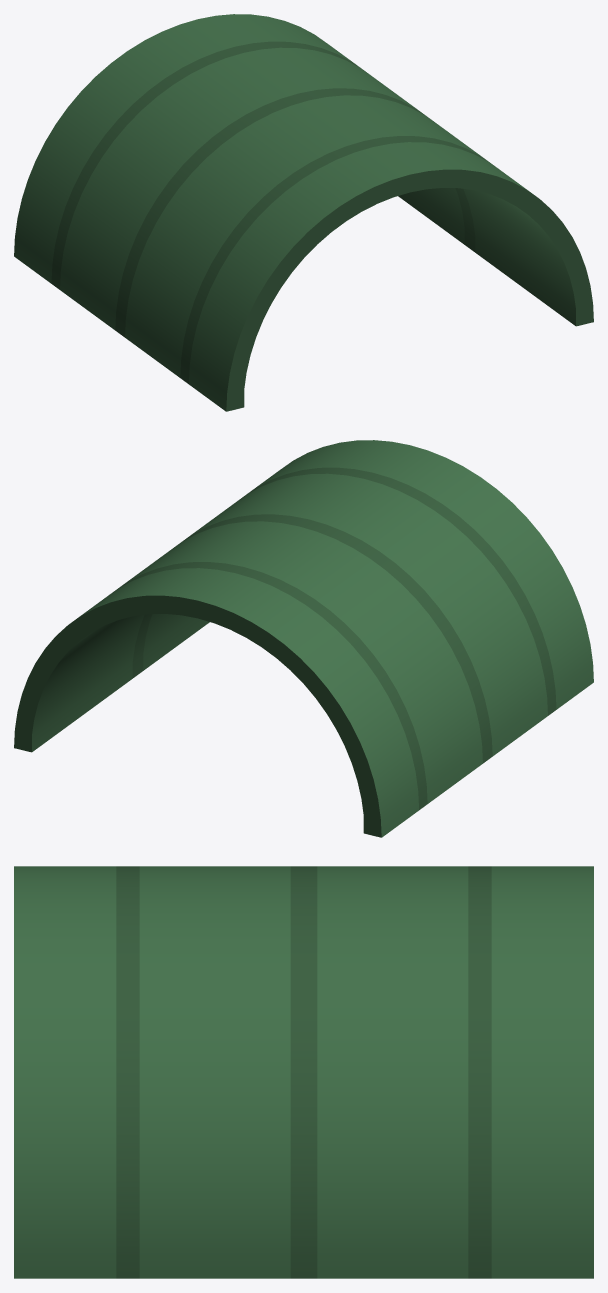
Rendered from Hangar.fbx.
3 renders of one model, top to bottom at view 1: azimuth 30°, elevation 25°; view 2: azimuth 150°, elevation 25°; view 3: azimuth 270°, elevation 25°, orthographic. The views are drawn at different scales.
Parts seen in each view (by area): view 1: Hangar; view 2: Hangar; view 3: Hangar.
Part boxes in pixels (<box>): Hangar: <box>14,14,593,411</box>; Hangar: <box>14,440,593,837</box>; Hangar: <box>14,866,593,1278</box>.
Size of the model in its own units: 10.27 by 5.13 by 10.27.
